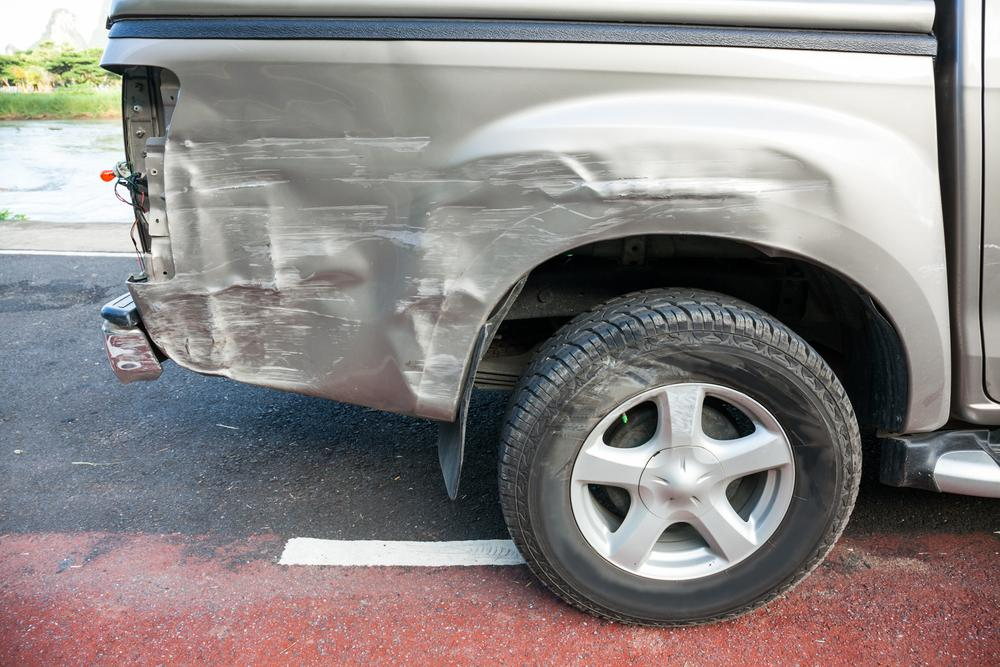dent: (123, 69, 836, 410)
scratch: (106, 332, 159, 375)
